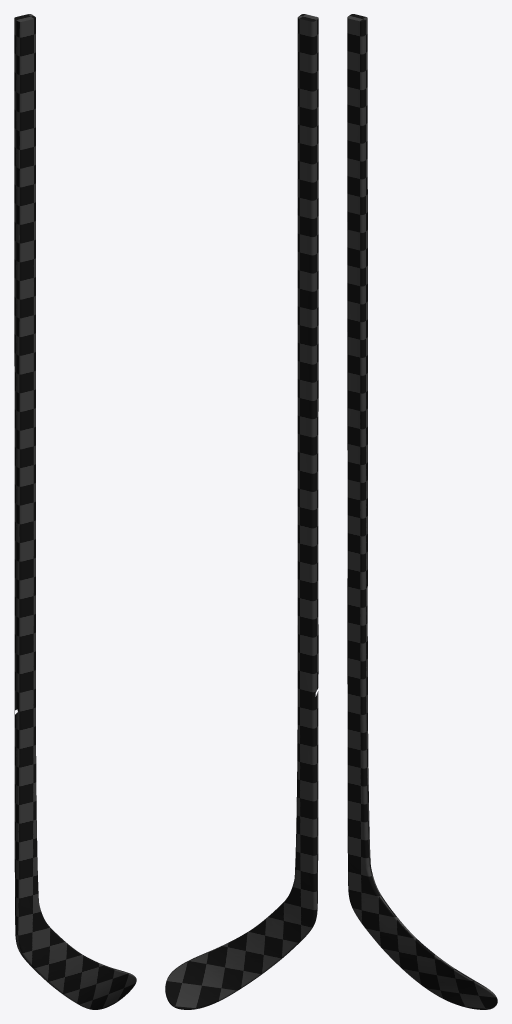
3 views of the same model, side by side, from view 1: azimuth 30°, elevation 25°; view 2: azimuth 150°, elevation 25°; view 3: azimuth 330°, elevation 25° (orthographic). The views are drawn at different scales.
Visible parts, largest first — view 1: geometry_0; view 2: geometry_0; view 3: geometry_0.
Part boxes in pixels (left/top/right/bottom): geometry_0: left=14, top=14, right=136, bottom=1009; geometry_0: left=165, top=14, right=318, bottom=1009; geometry_0: left=347, top=14, right=497, bottom=1009.
Size of the model in its own units: 230 by 1650 by 78.18.
1 material, 1 textured.
